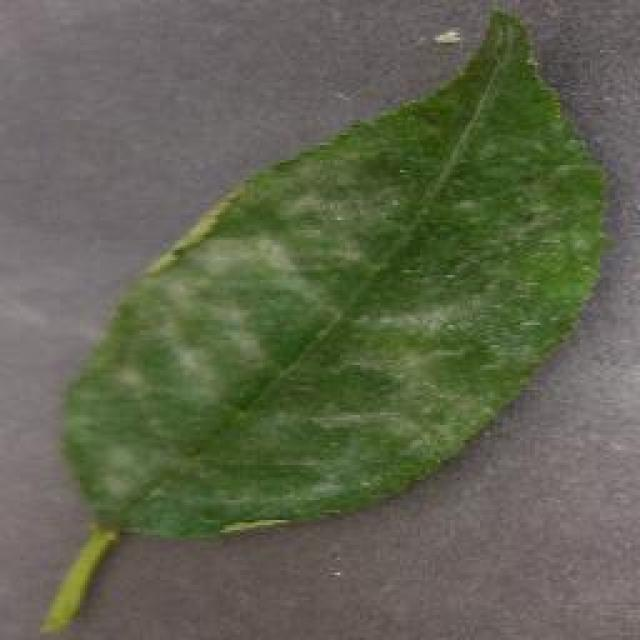Cherry___Powdery_mildew: (22, 2, 620, 640)
